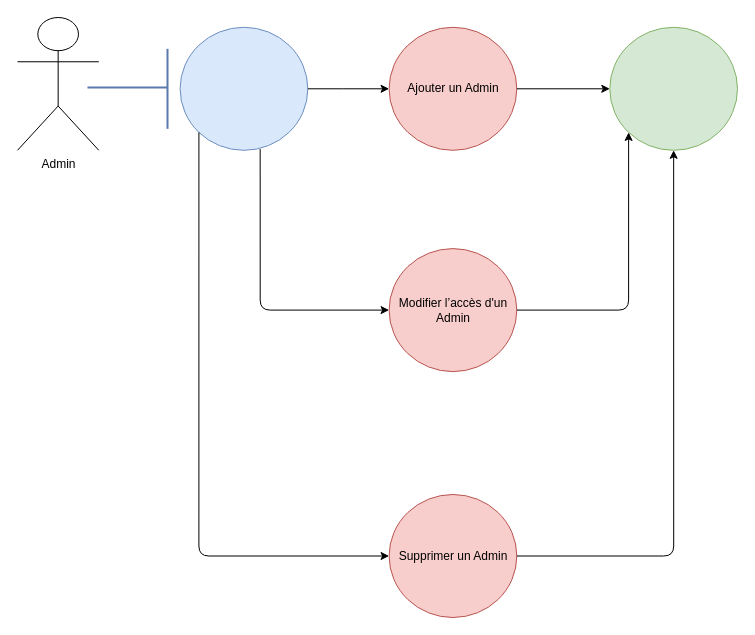
Image size: 755x635. Some labels were removed from this diagram. Each missing label, with the box of its shape:
Liste des Admin: (179, 26, 308, 150)
Table Admin: (609, 26, 738, 150)
